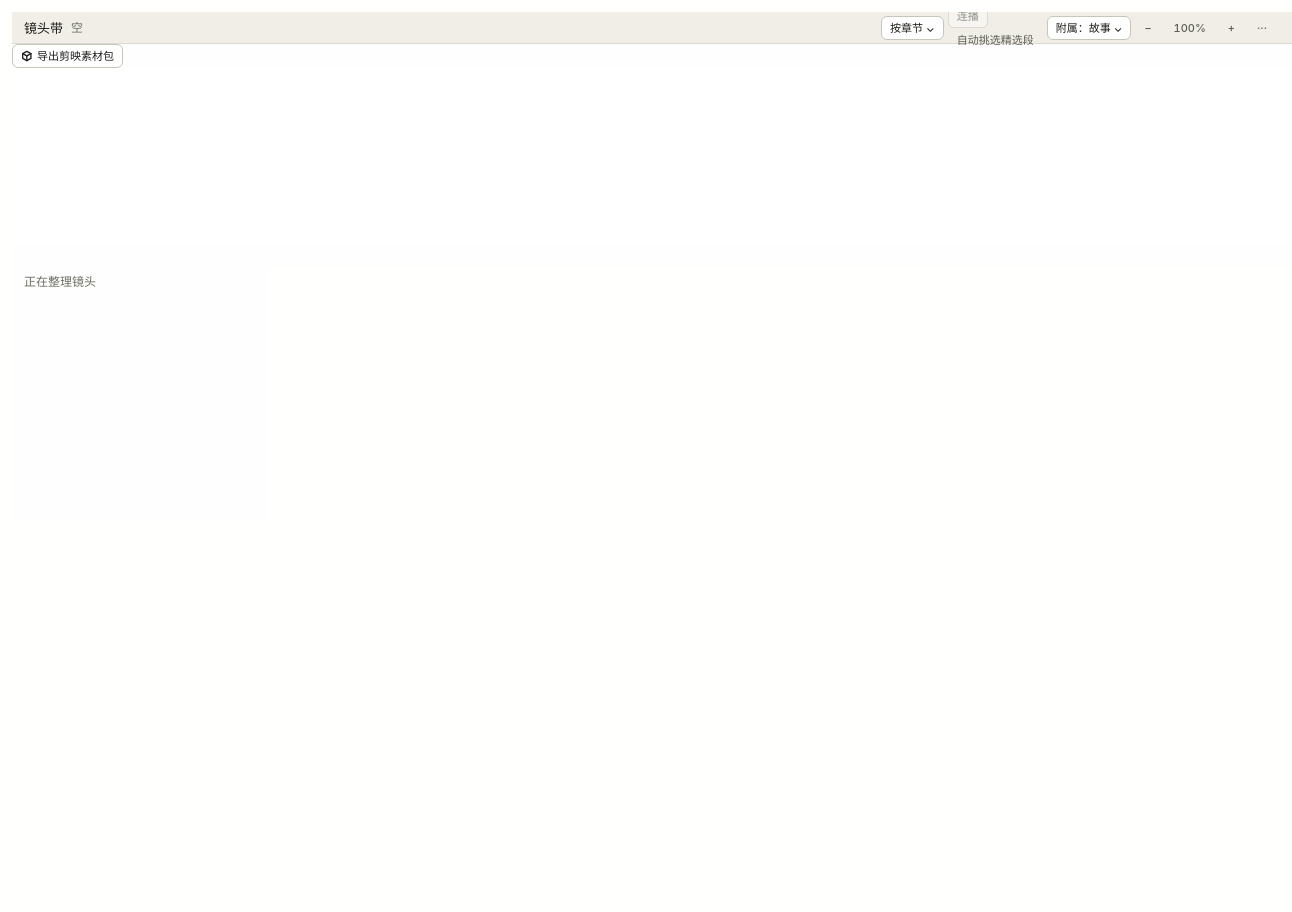
Test: 附属带分段控件 › 「地点卡」展开当前章节的目的地卡编辑(R6 字段状态与校验照旧)
Click the button "附属：故事 ⌄": (1089, 28) [1047,16,1131,40]
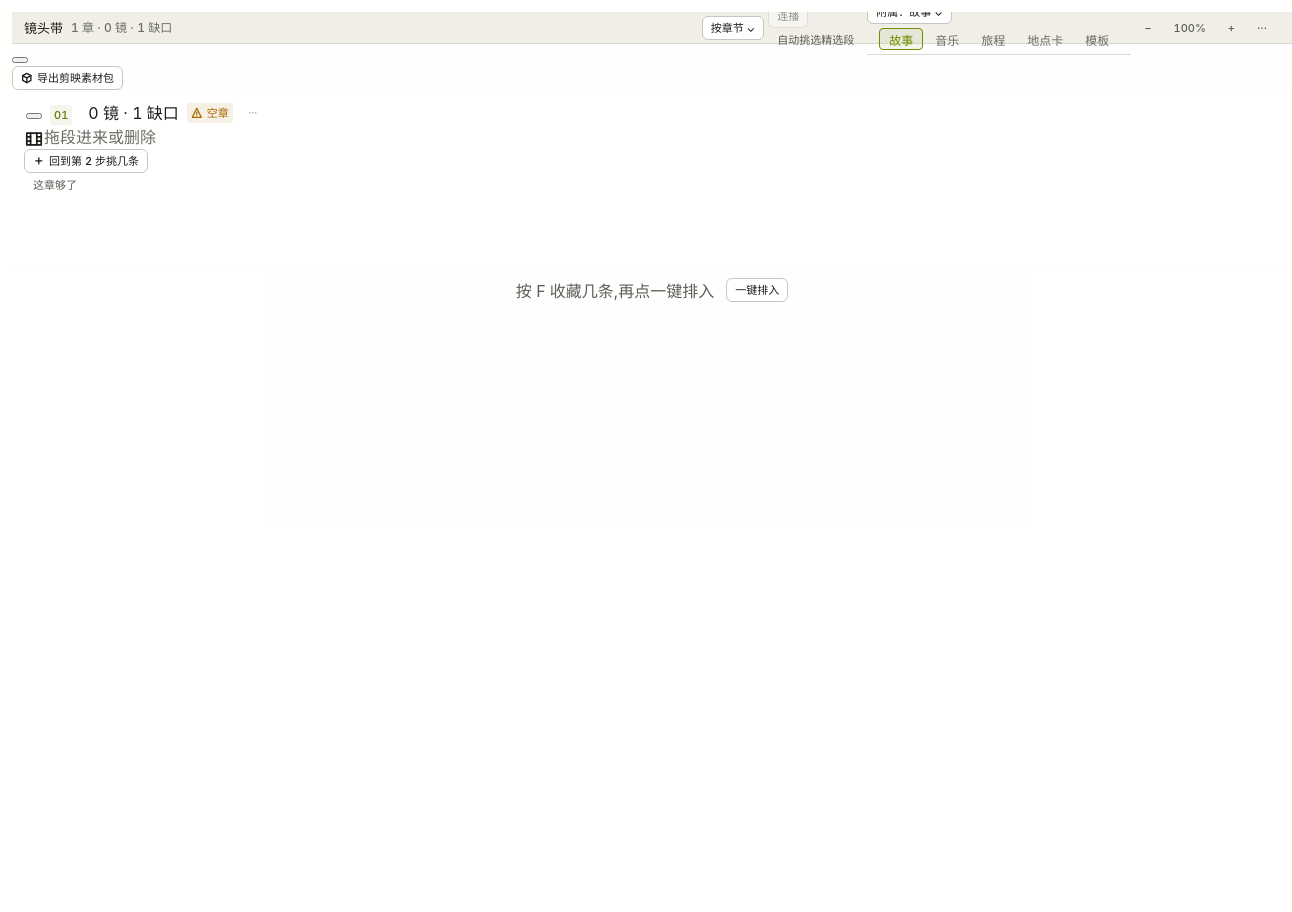
Now the element named "镜头带附属视图" is shown, box [867,24,1131,55]
Click the tab "地点卡": (1045, 39) [1017,28,1073,50]
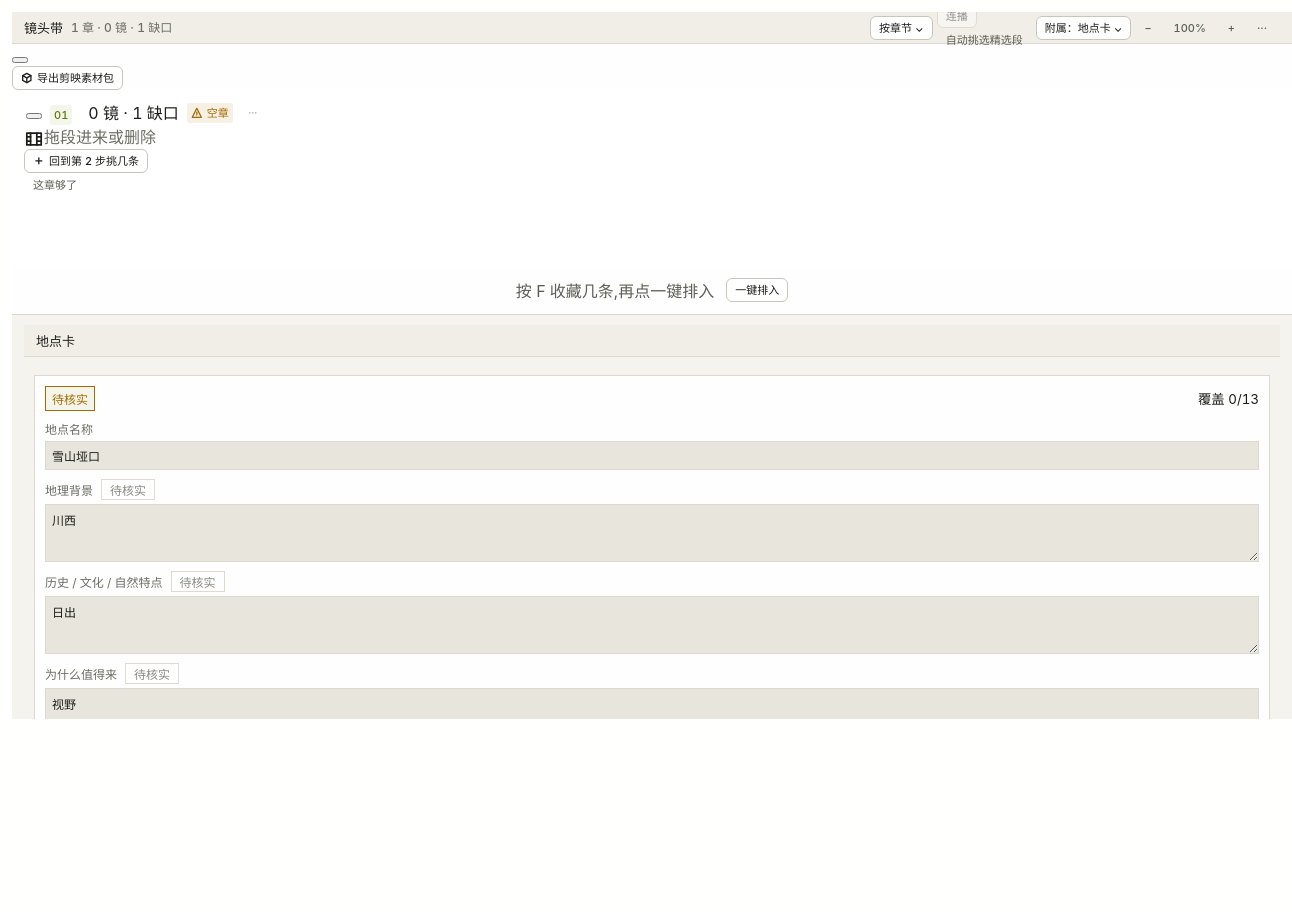
Now the field showing "雪山垭口" is shown, box [45,441,1259,470]
Now the text "待核实" is shown, box [45,386,95,411]
